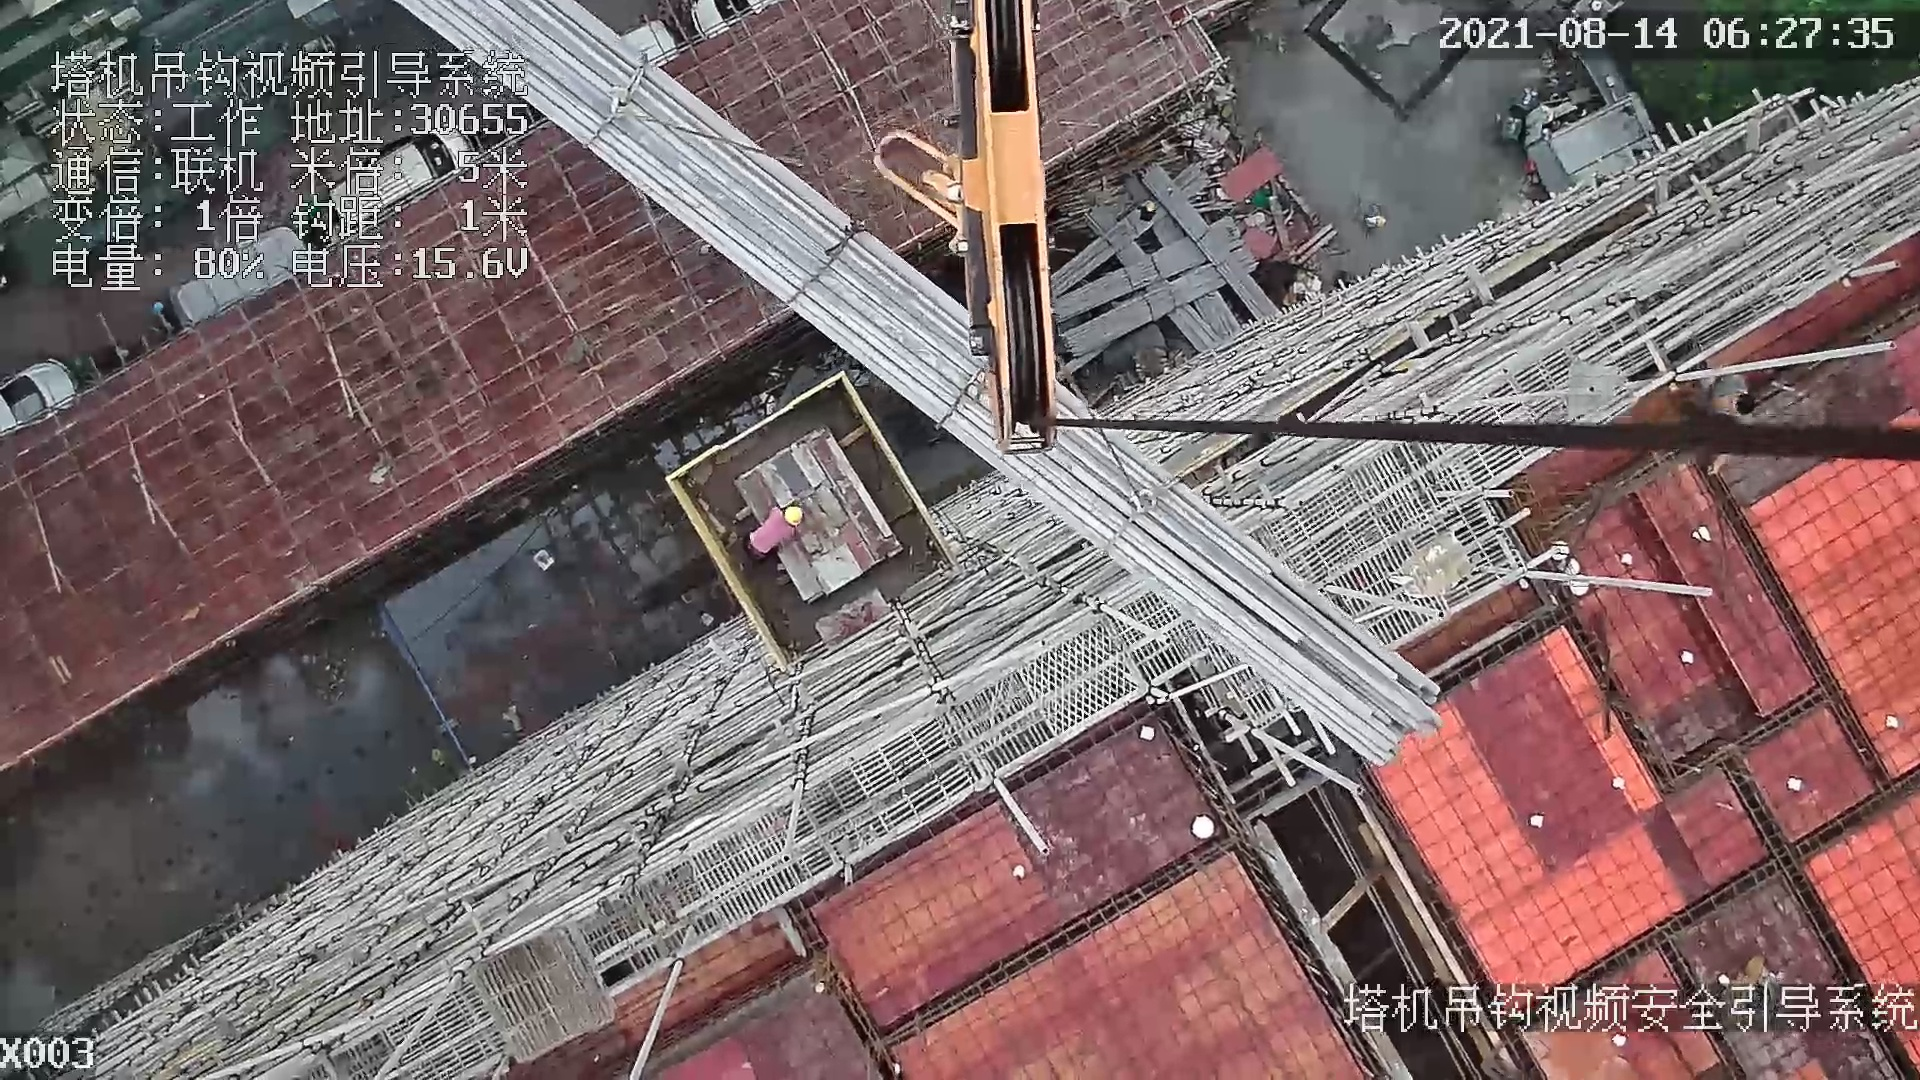helmet: (775, 504, 810, 531)
hook: (951, 1, 1060, 457)
person: (1704, 366, 1763, 430), (748, 501, 803, 561)
